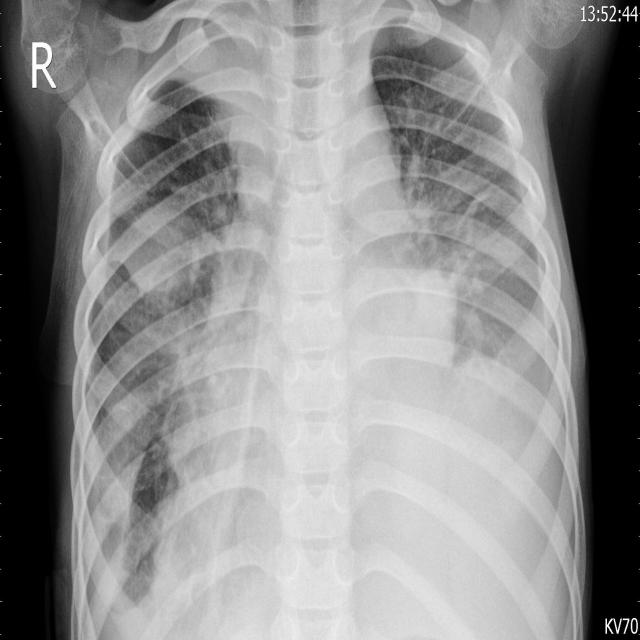low-pneumonia: (123, 199, 220, 455), (410, 146, 502, 362)
